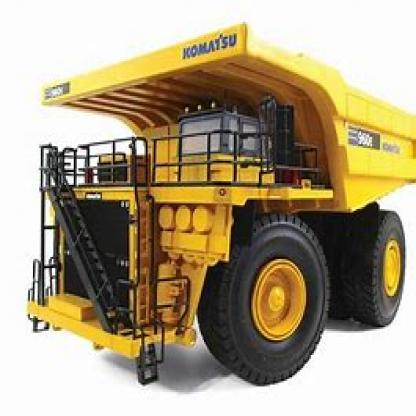dump_truck: (19, 13, 411, 385)
